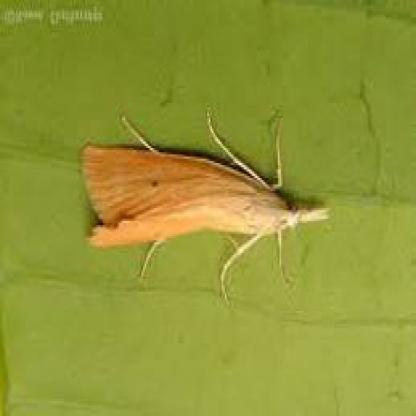stem-borer: (74, 112, 332, 308)
